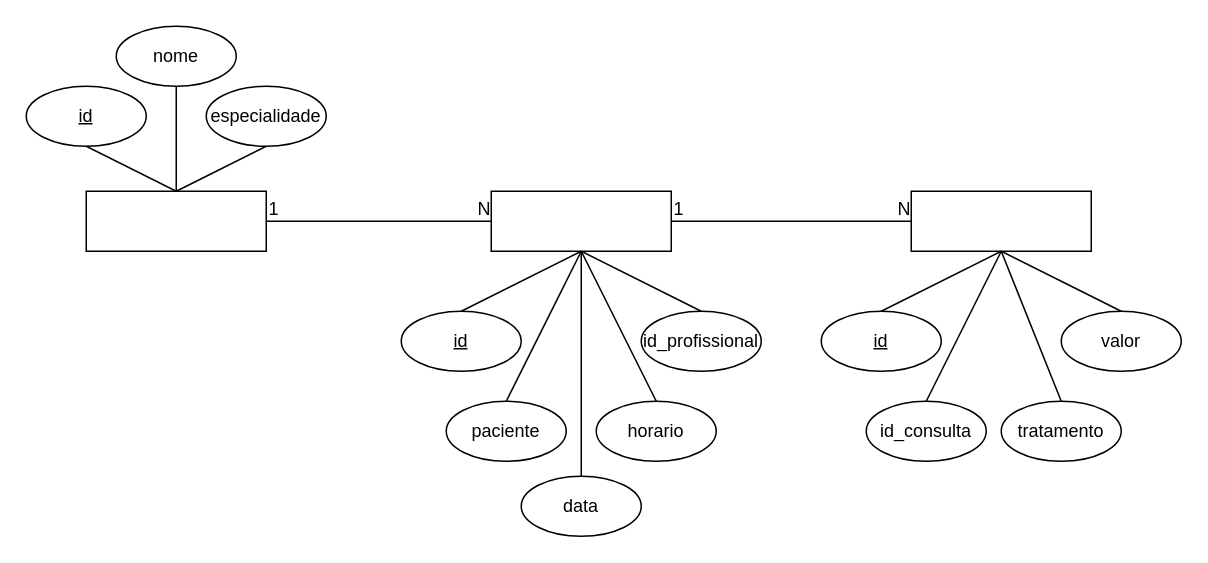
The diagram is 1208 pixels wide and 563 high, and some of its shapes have lost their labels. Here are the shapes that lost their labels. From the top down, the centre of each, then its label:
point (175, 220): profissionais
point (580, 220): consultas
point (1000, 220): tratamentos
